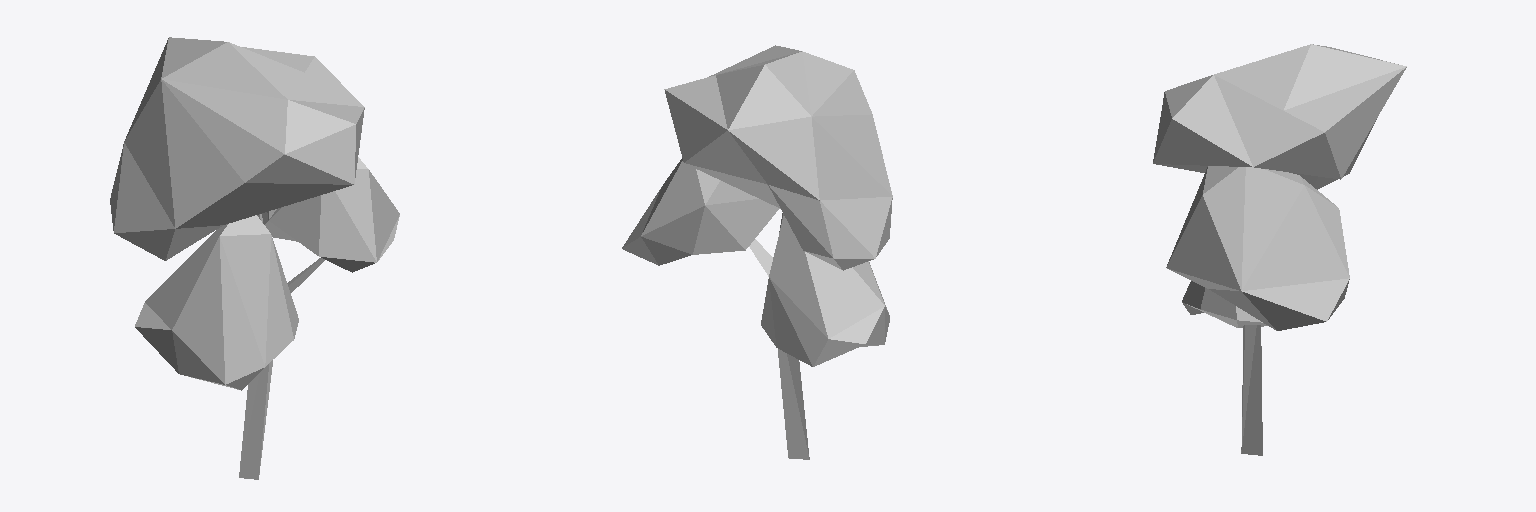
File: Arbol7.obj
3 renders of one model, left to right at view 1: azimuth 30°, elevation 25°; view 2: azimuth 150°, elevation 25°; view 3: azimuth 270°, elevation 25°, orthographic.
Visible parts, largest first — view 1: Tree_Type3_01_Model_Circle.020; view 2: Tree_Type3_01_Model_Circle.020; view 3: Tree_Type3_01_Model_Circle.020.
Boxes of the visible parts, x1=… form: Tree_Type3_01_Model_Circle.020: x1=110, y1=37, x2=399, y2=479; Tree_Type3_01_Model_Circle.020: x1=622, y1=45, x2=892, y2=459; Tree_Type3_01_Model_Circle.020: x1=1153, y1=44, x2=1406, y2=455.
Size of the model in its own units: 1.21 by 1.91 by 1.07.